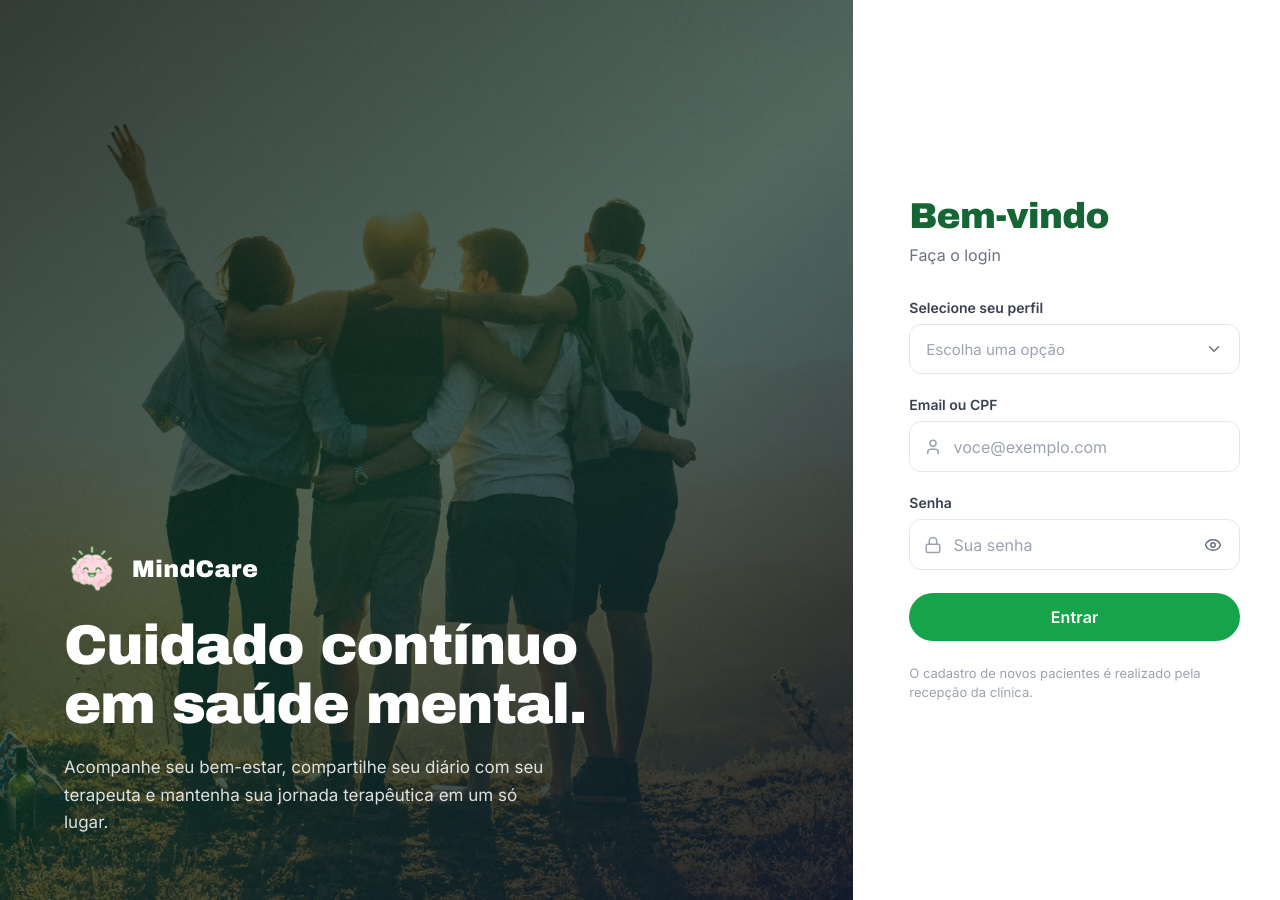
Tela de Login › exige selecao de perfil
Click the button "Entrar". click: {"x": 1075, "y": 617}
box: [909,593,1240,642]
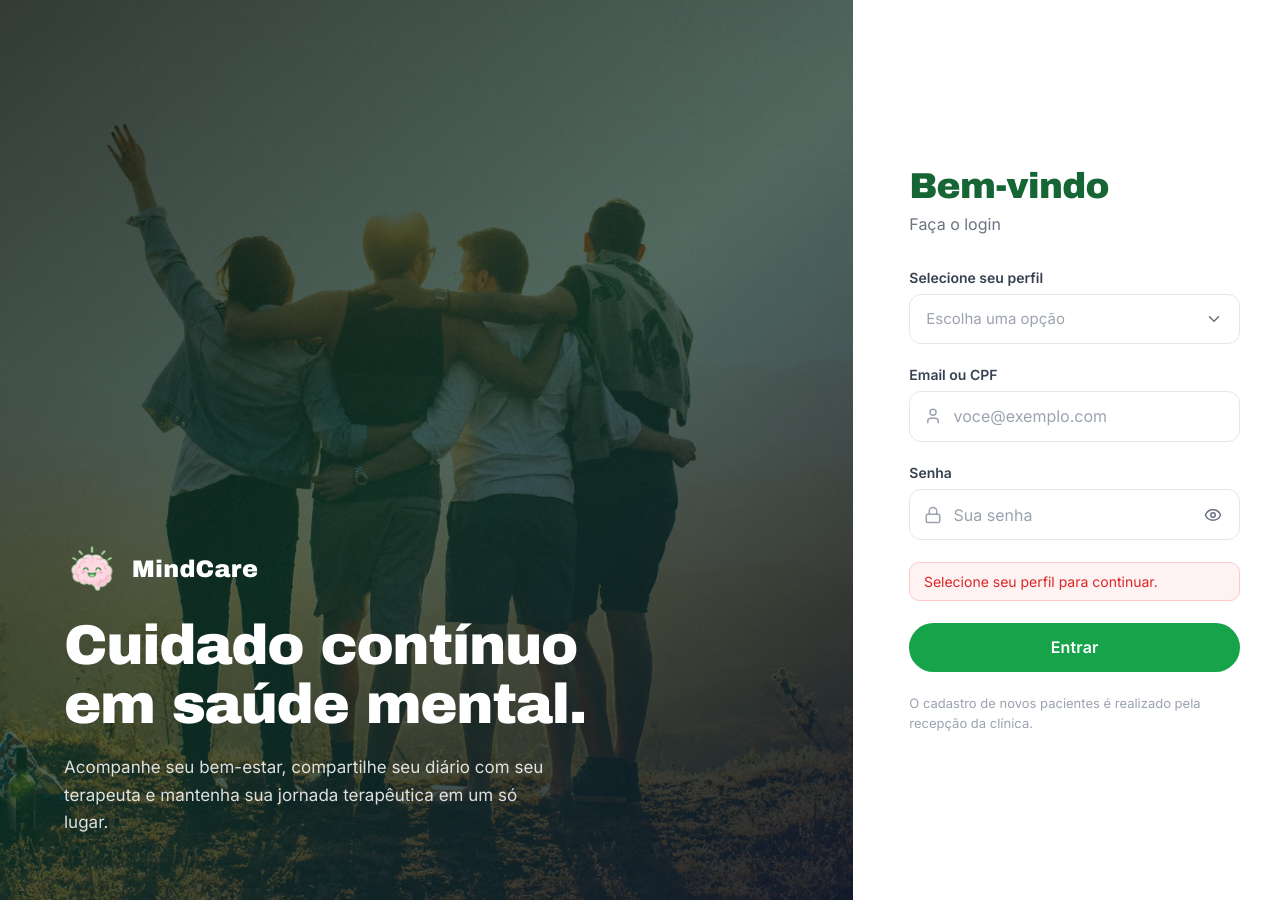
Result: the text "Selecione seu perfil para continuar." is shown at [909,562,1240,601]
